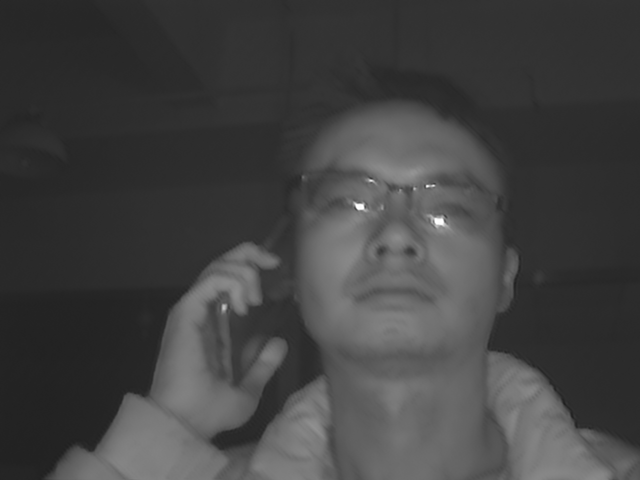hand: (138, 238, 288, 439)
